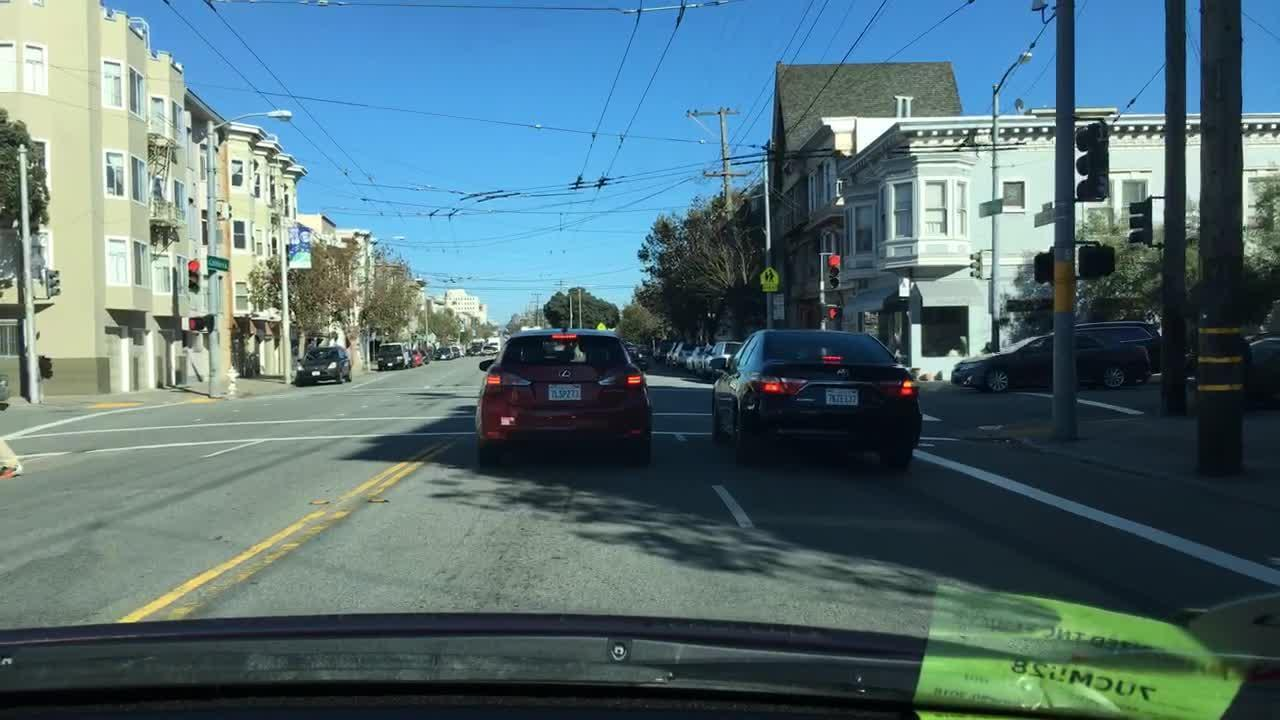lexus: (556, 366, 575, 384)
